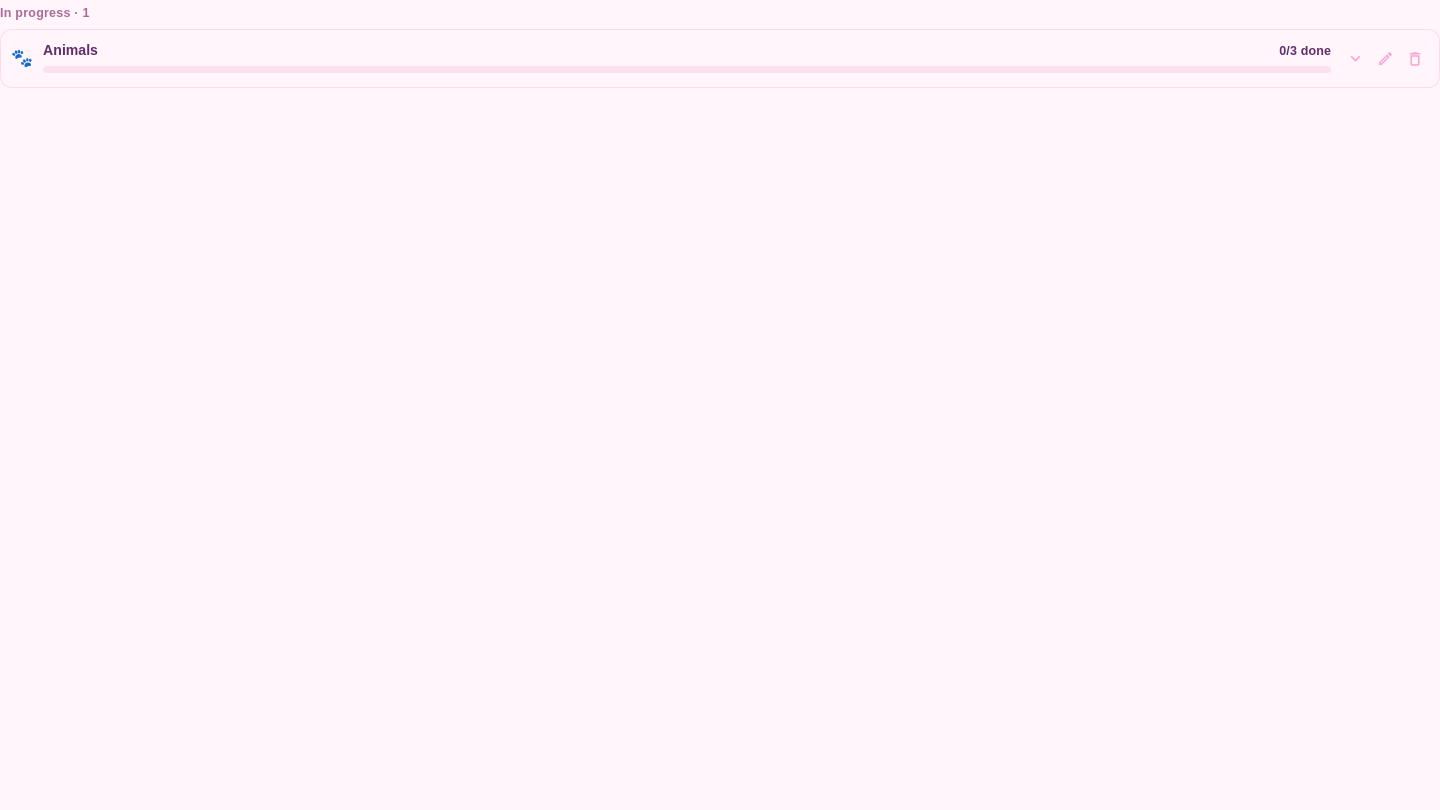
Test: AssignmentsList › keeps the confirm dialog open and shows the error when removal fails
Click the button named "Remove handout". click: click(1415, 59)
box: top-left (1401, 44), bottom-right (1429, 73)
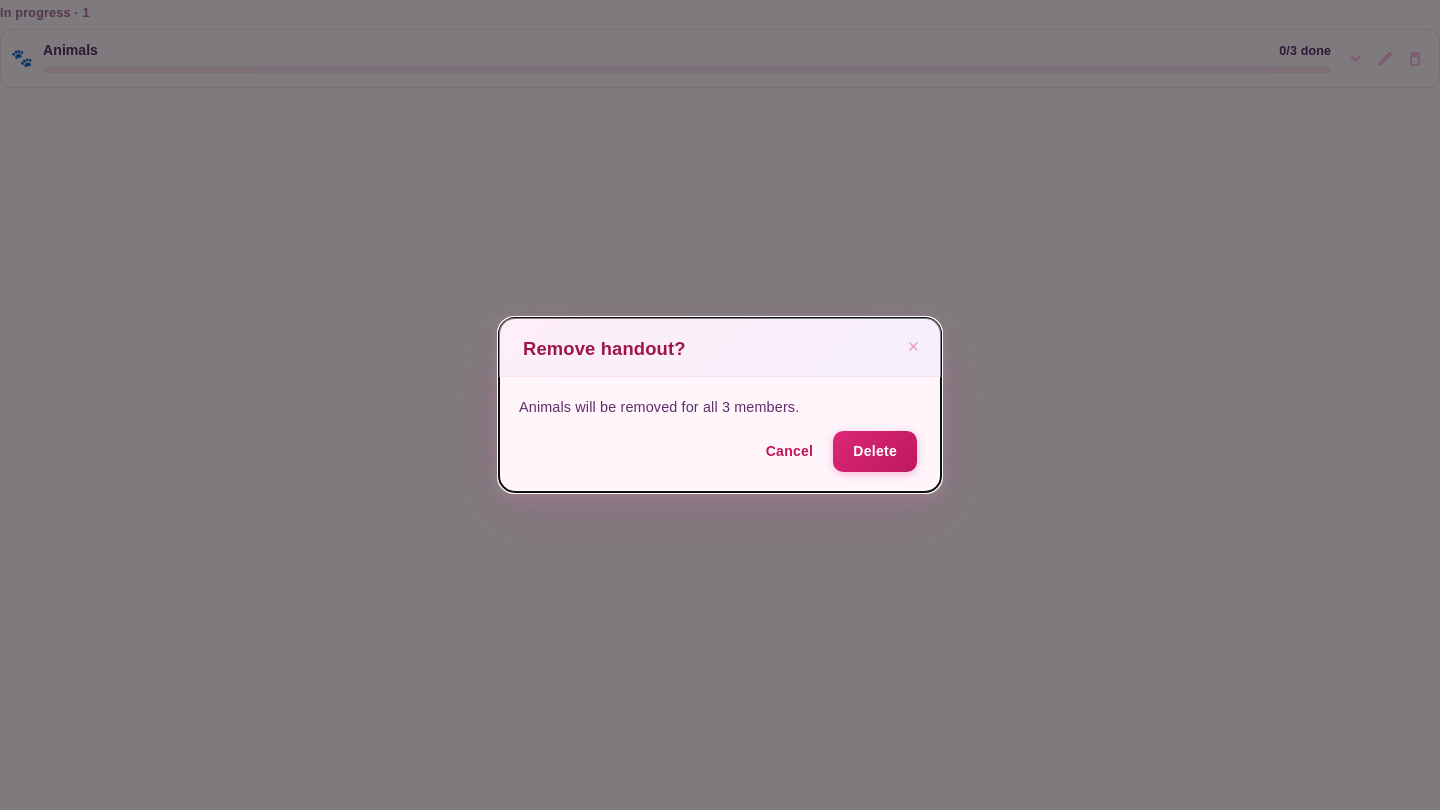
Click the button "Delete". click: click(875, 451)
box: top-left (833, 431), bottom-right (917, 472)
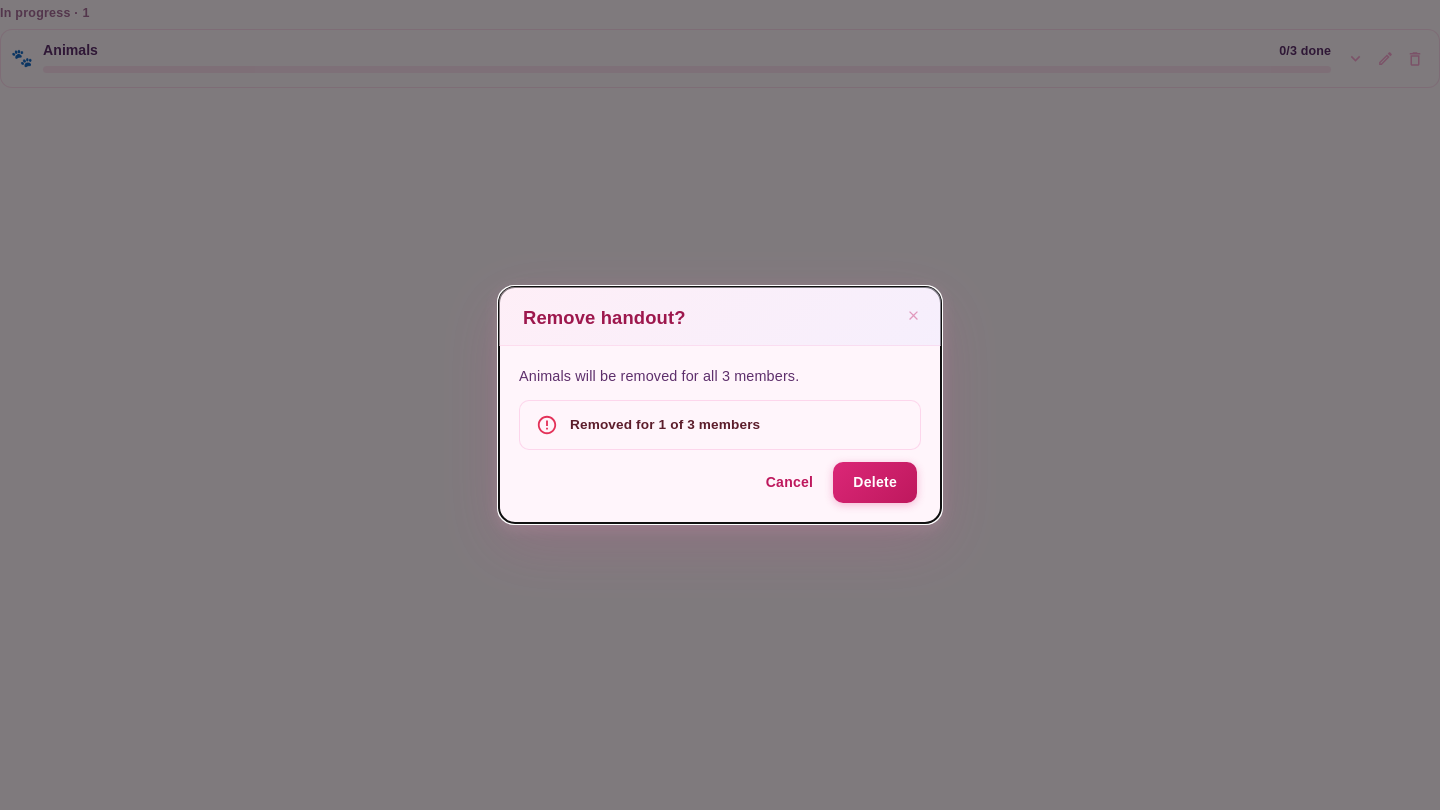
Result: the text "Animals will be removed for all 3 members." is shown at top-left (519, 368), bottom-right (799, 384)
Result: the text "Removed for 1 of 3 members" is shown at top-left (570, 417), bottom-right (760, 432)
